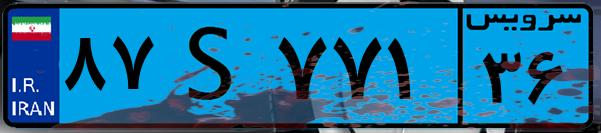1: (385, 28, 445, 110)
3: (475, 38, 525, 113)
6: (525, 38, 570, 115)
7: (270, 28, 330, 110), (330, 28, 385, 110), (110, 28, 158, 98)
8: (57, 26, 110, 100)
S: (158, 12, 270, 120)
